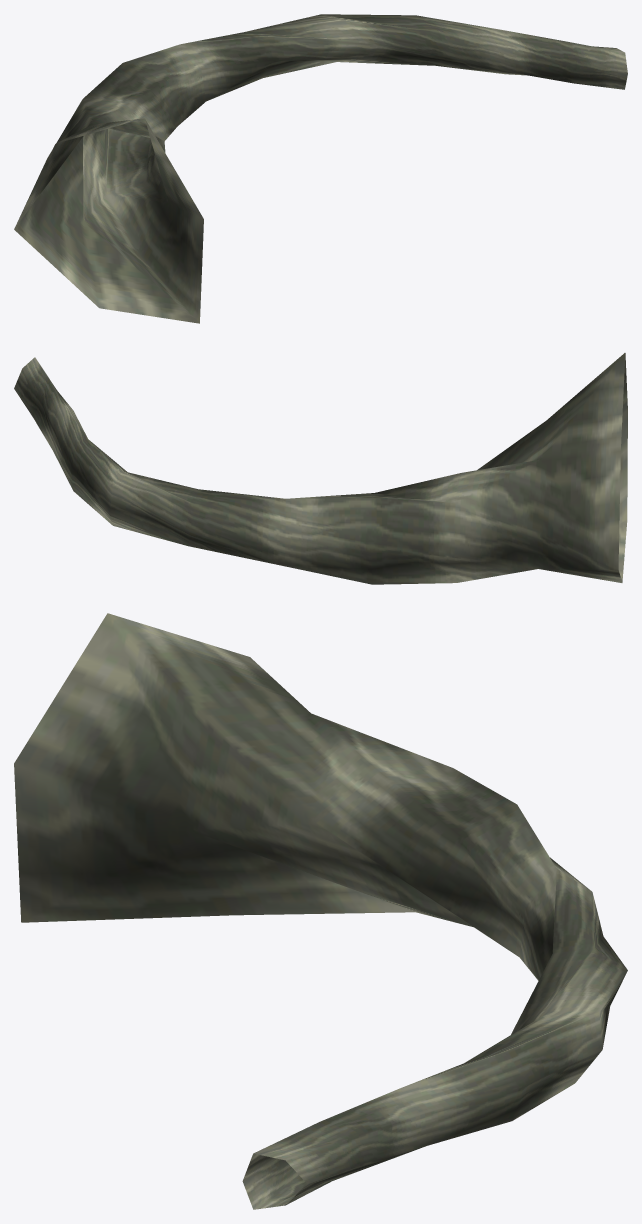
Rendered from INST_SWORDLIGHT_ROOTA.fbx.
3 renders of one model, top to bottom at view 1: azimuth 30°, elevation 25°; view 2: azimuth 150°, elevation 25°; view 3: azimuth 270°, elevation 25°, orthographic. The views are drawn at different scales.
Visible parts, largest first — view 1: INST_SWORDLIGHT_ROOTA; view 2: INST_SWORDLIGHT_ROOTA; view 3: INST_SWORDLIGHT_ROOTA.
Part boxes in pixels (x1=…): INST_SWORDLIGHT_ROOTA: x1=14, y1=14, x2=627, y2=323; INST_SWORDLIGHT_ROOTA: x1=14, y1=353, x2=627, y2=584; INST_SWORDLIGHT_ROOTA: x1=14, y1=613, x2=627, y2=1209.
Size of the model in its own units: 49710 by 16225 by 29373.
1 material, 1 textured.
